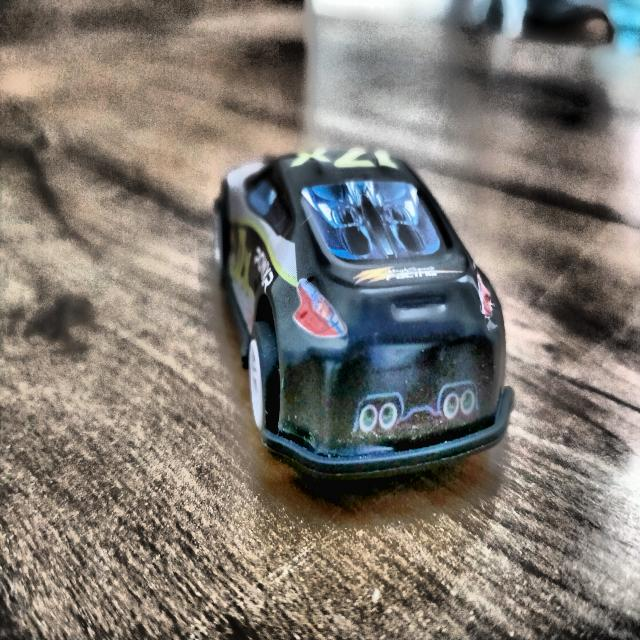Car: (218, 139, 517, 476)
